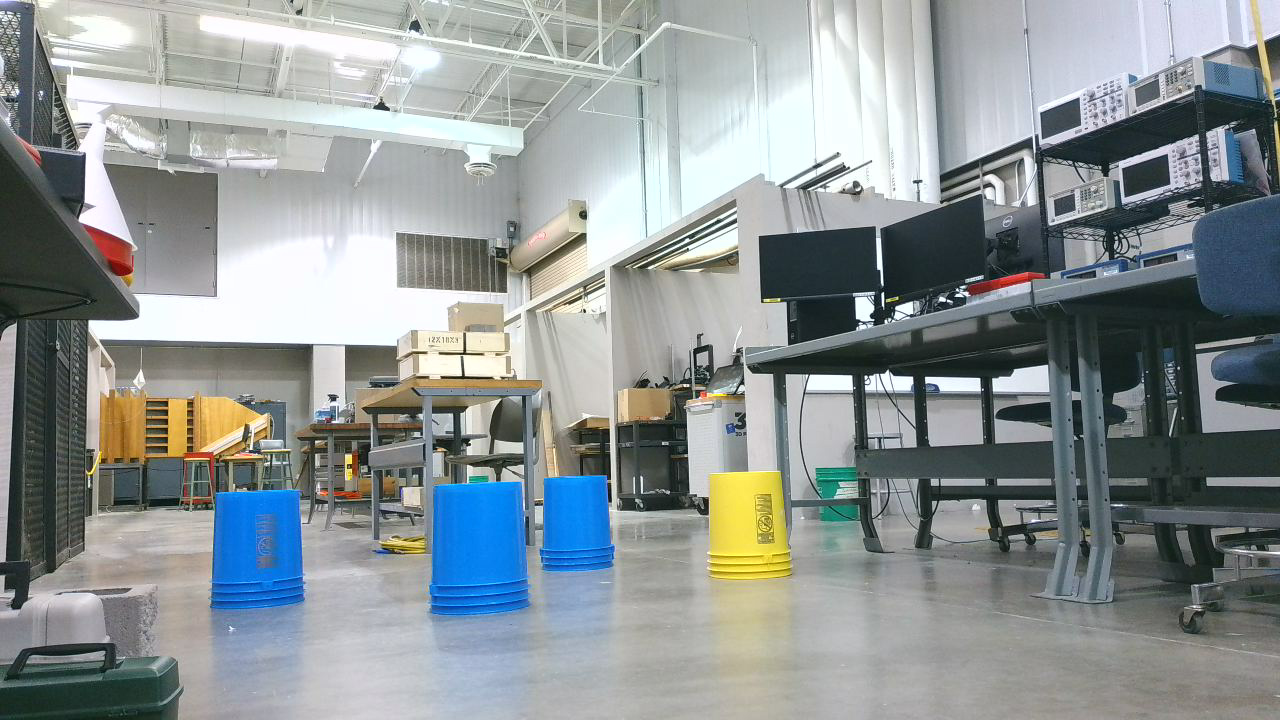blue_bucket: (427, 483, 538, 623), (206, 492, 314, 622), (542, 479, 622, 579)
yellow_bucket: (705, 470, 804, 590)
